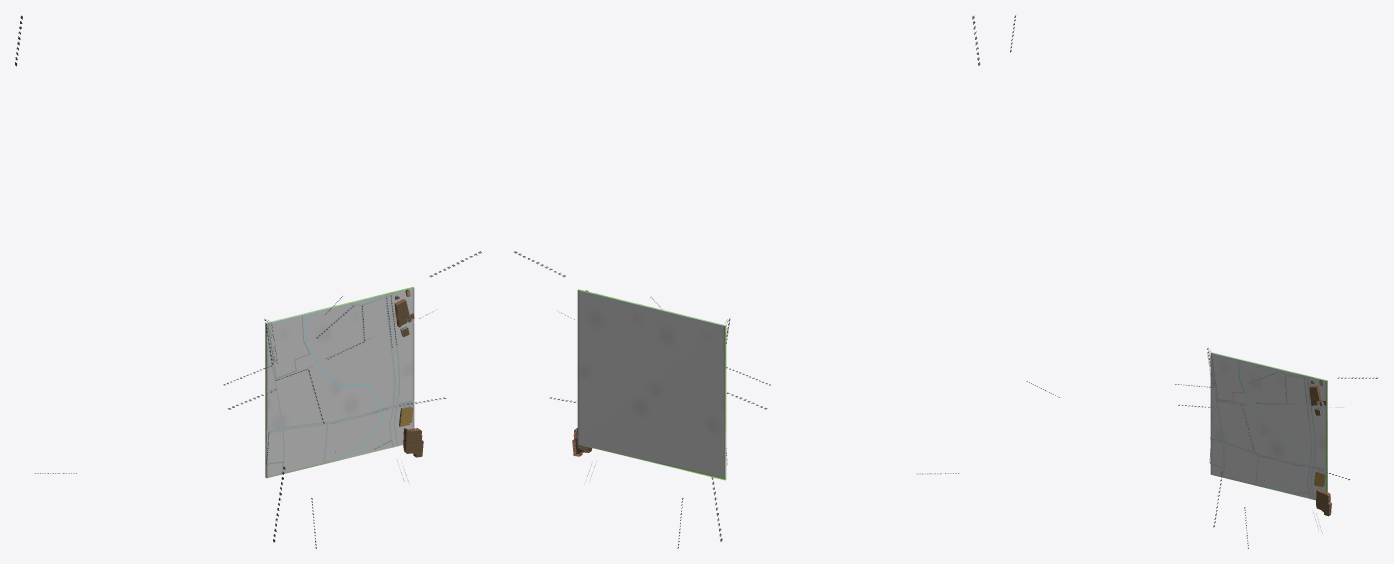
3 renders of one model, left to right at view 1: azimuth 30°, elevation 25°; view 2: azimuth 150°, elevation 25°; view 3: azimuth 330°, elevation 25°, orthographic. The views are drawn at different scales.
Parts seen in each view (by area): view 1: POLYGON, POLYLINE, BUILDING, FONT; view 2: POLYGON, FONT; view 3: POLYGON, POLYLINE, BUILDING, FONT.
Boxes of the visible parts, bbox=[...] form: POLYGON: bbox=[265, 287, 414, 478]; POLYLINE: bbox=[266, 291, 414, 474]; BUILDING: bbox=[394, 289, 423, 457]; FONT: bbox=[15, 15, 481, 548]; POLYGON: bbox=[577, 289, 726, 480]; FONT: bbox=[514, 16, 980, 548]; POLYGON: bbox=[1210, 352, 1327, 500]; POLYLINE: bbox=[1210, 353, 1326, 499]; BUILDING: bbox=[1309, 380, 1331, 516]; FONT: bbox=[1010, 15, 1377, 548].
Size of the model in its own units: 1930 by 2397 by 44.18.
